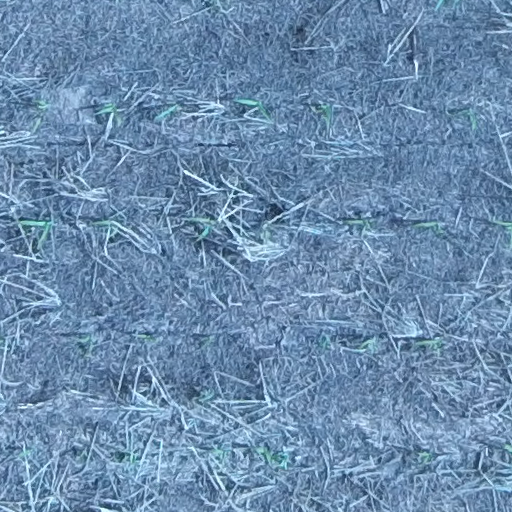planta: (16, 217, 54, 250), (235, 98, 272, 122), (187, 216, 218, 242), (253, 446, 290, 465), (98, 103, 123, 123), (412, 221, 444, 236), (414, 338, 443, 352), (343, 219, 375, 231), (461, 108, 478, 130), (90, 217, 112, 234), (157, 103, 181, 118), (317, 104, 332, 125), (357, 339, 377, 352), (418, 450, 432, 465), (134, 333, 156, 342), (35, 99, 49, 111)
